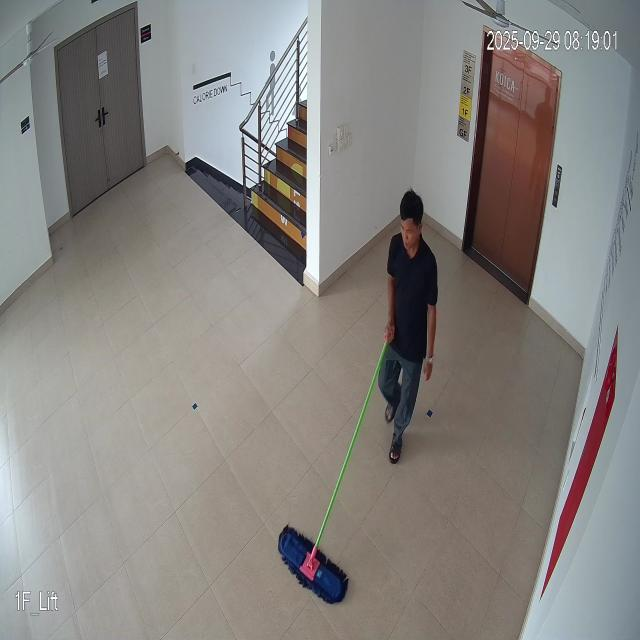face: (394, 177, 428, 262)
